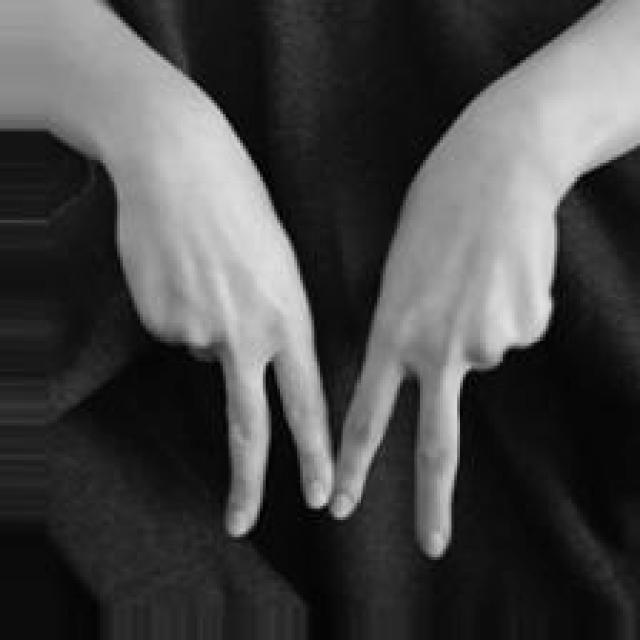M: (107, 81, 570, 562)
